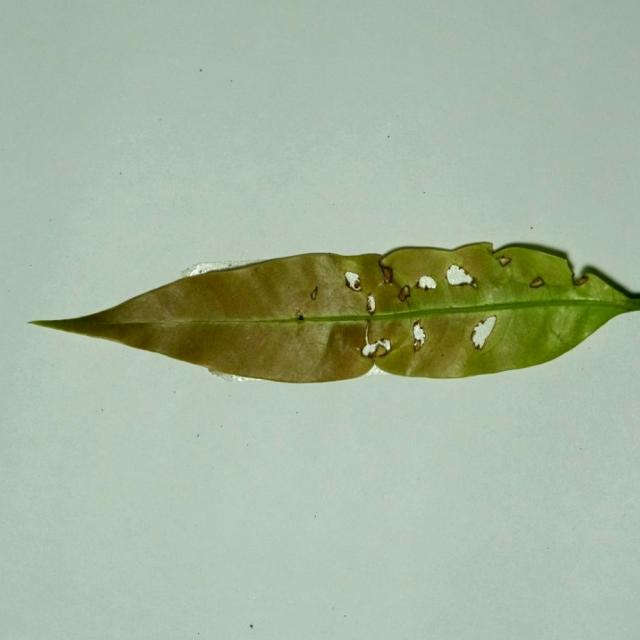Anthracnose: (361, 321, 391, 359), (470, 315, 497, 350), (445, 264, 477, 289), (412, 319, 426, 352), (416, 275, 437, 291), (344, 271, 359, 291), (380, 265, 393, 284), (397, 285, 410, 303), (366, 294, 376, 315), (572, 274, 589, 286), (529, 276, 545, 288), (497, 255, 511, 267), (294, 308, 305, 321), (310, 285, 318, 300), (355, 347, 360, 352)
Mango: (29, 242, 639, 387)
